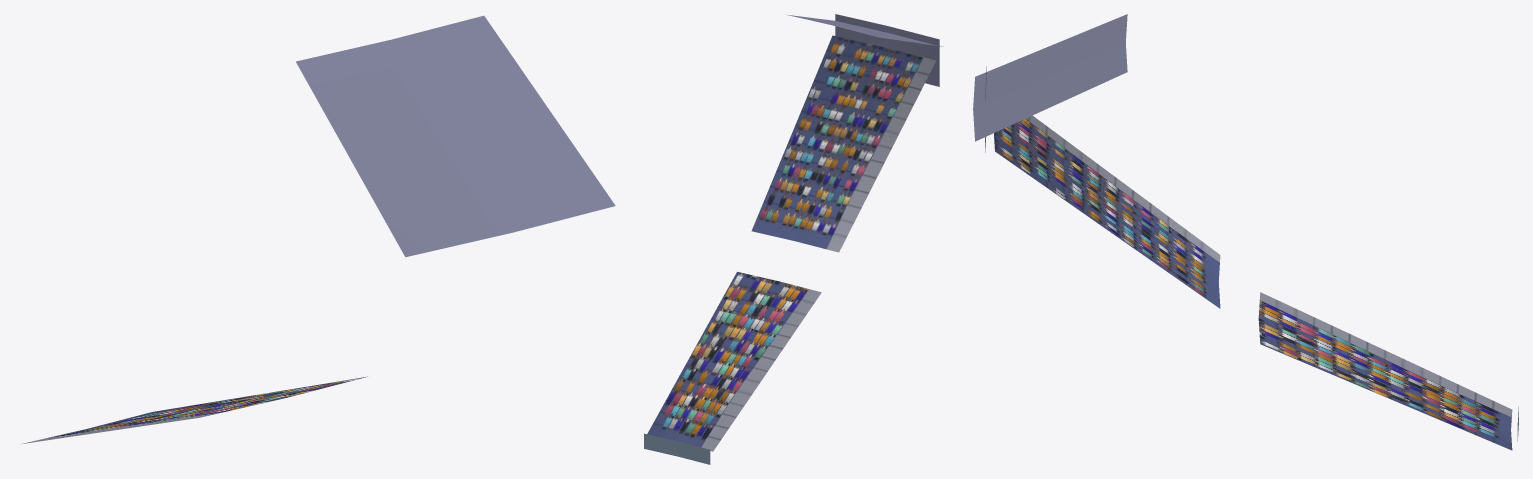
File: venue-b.glb
3 renders of one model, left to right at view 1: azimuth 30°, elevation 25°; view 2: azimuth 150°, elevation 25°; view 3: azimuth 270°, elevation 25°, orthographic. The views are drawn at different scales.
Parts seen in each view (by area): view 1: wedge_lod1; view 2: wedge_lod1; view 3: wedge_lod1.
Boxes of the visible parts, x1,y1,x2,y2 form: wedge_lod1: (20, 15, 615, 444); wedge_lod1: (644, 14, 943, 464); wedge_lod1: (973, 14, 1518, 450).
Size of the model in its own units: 11.56 by 33.35 by 41.09.
1 material, 1 textured.
